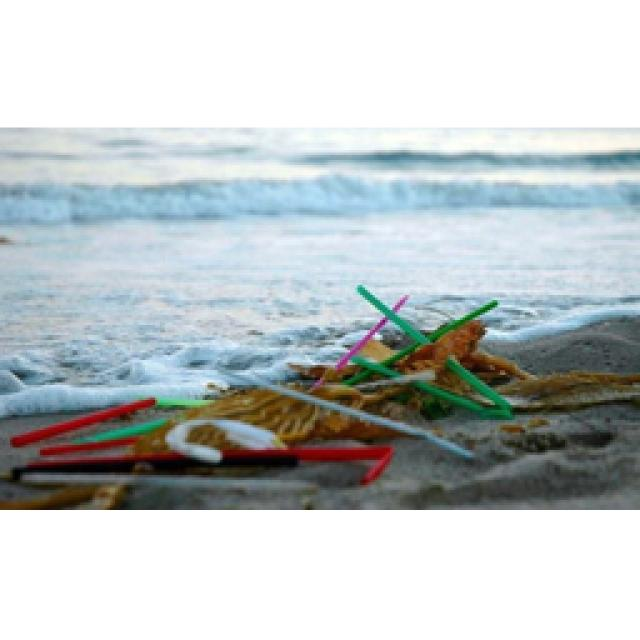plastic: (10, 442, 392, 483), (260, 385, 470, 458), (10, 398, 205, 445), (360, 358, 510, 418), (40, 420, 162, 455)
